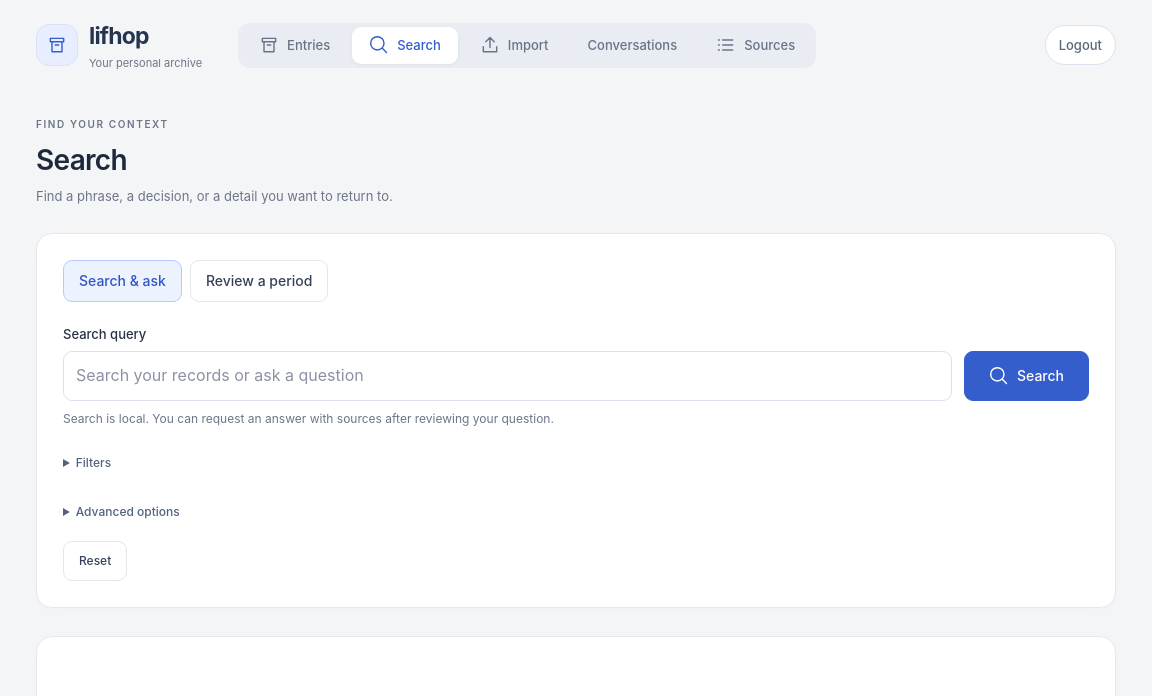
requires one consent for an integrated answer and hides internal evidence selection
Type "worker" into the field labelled "Search query" at [508, 376], box [63,351,952,401]
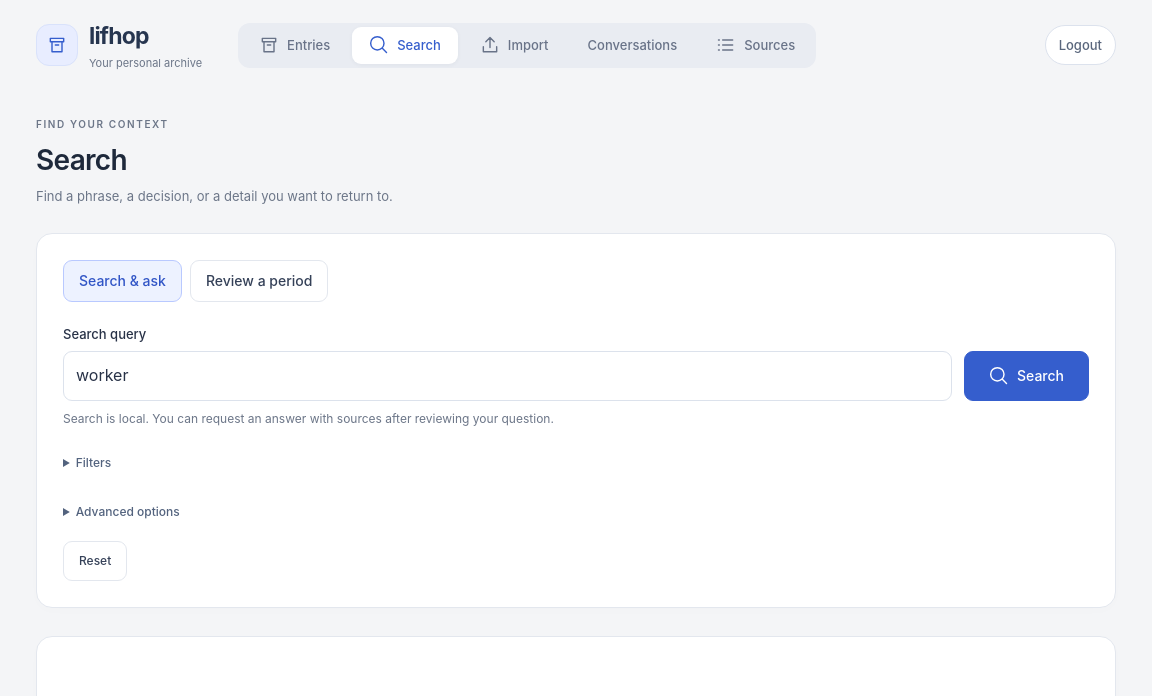
Click the button "Search" at [1026, 376], box [964,351,1089,401]
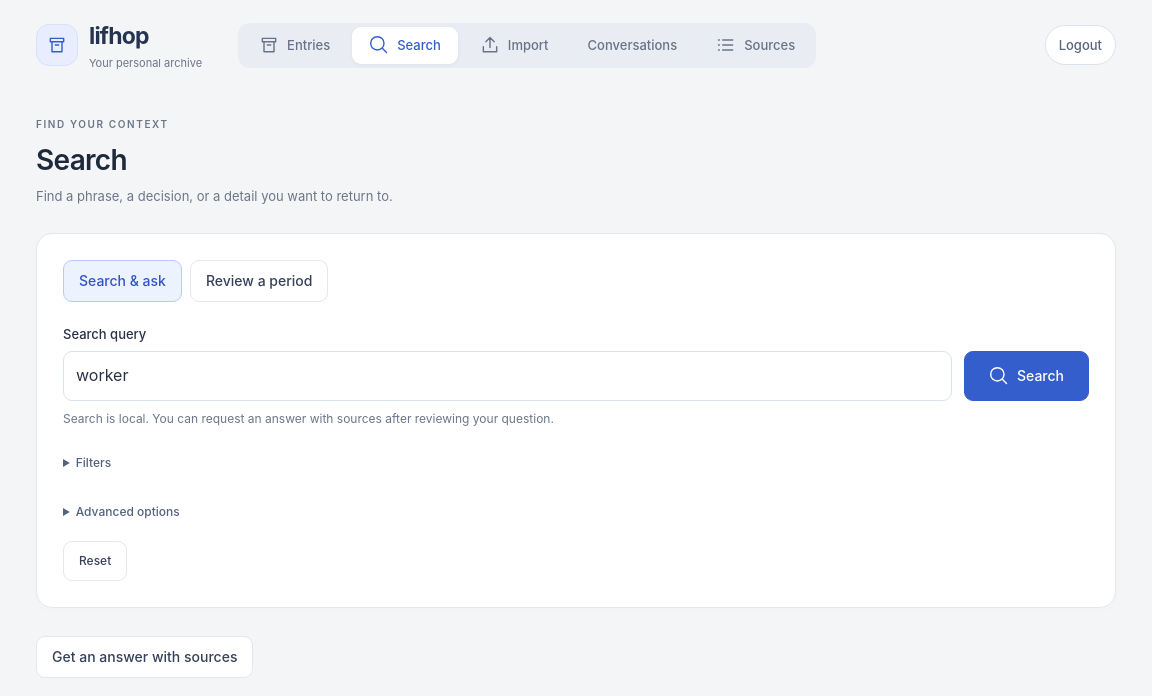
Click the button "Get an answer with sources" at [145, 657], box [36,636,253,678]
(page scrolled)
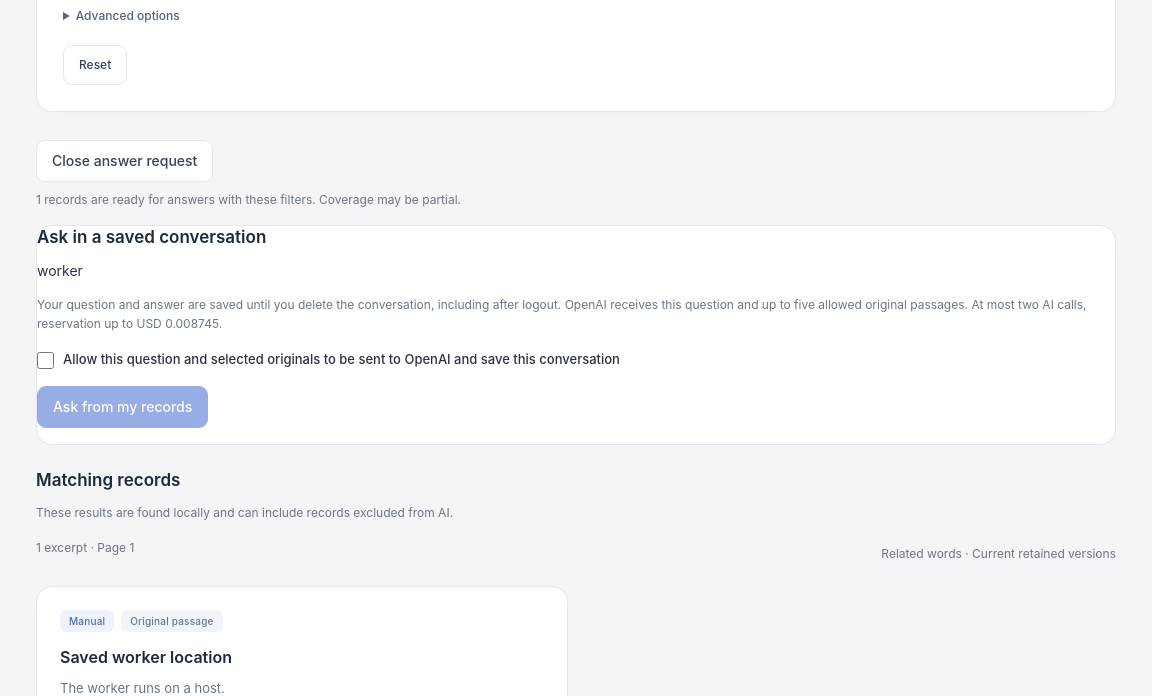
Check: the button "Ask from my records" is disabled, box [37,386,208,428]
Click the checkbox named "Allow this question and selected originals to be sent to OpenAI and save this conversation" at [46, 360], box [37,352,54,369]
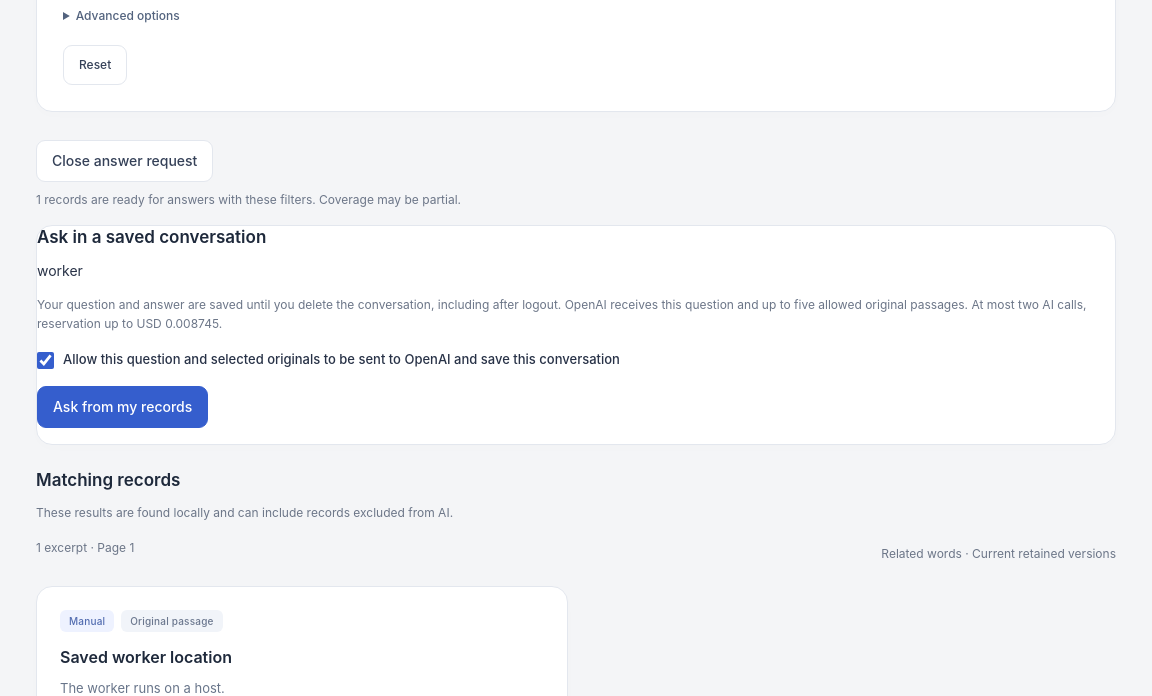
Click the button "Ask from my records" at [123, 407], box [37,386,208,428]
(page scrolled)
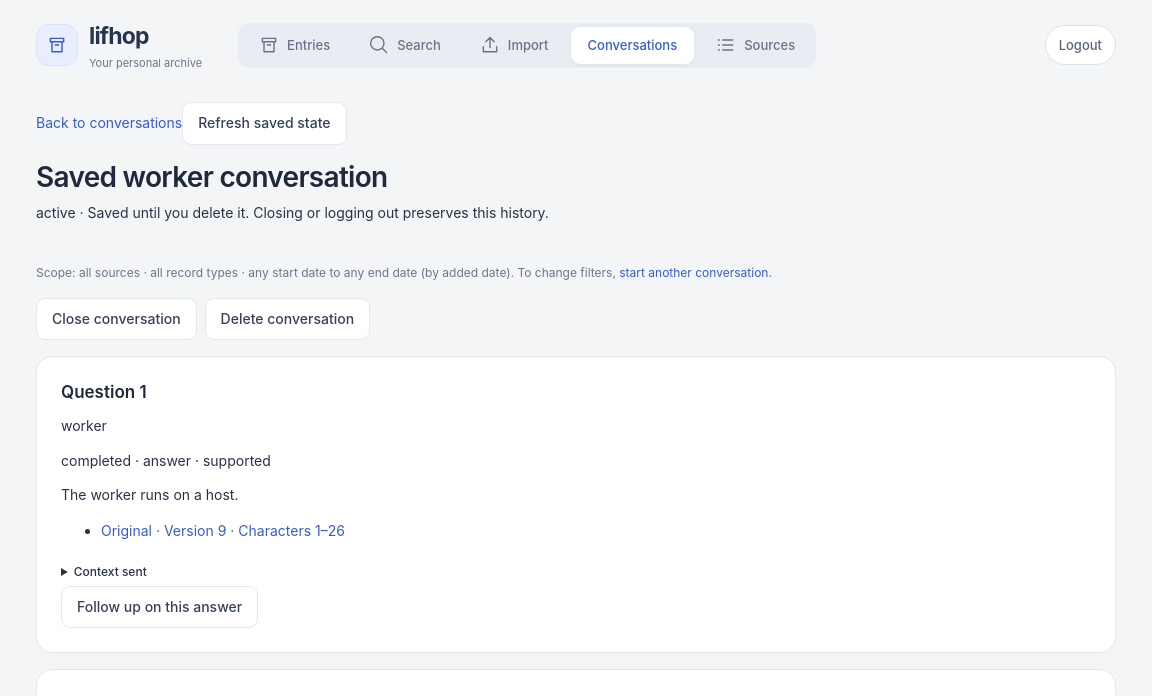
Check: the heading "Saved worker conversation" is shown, box [36,160,388,194]
